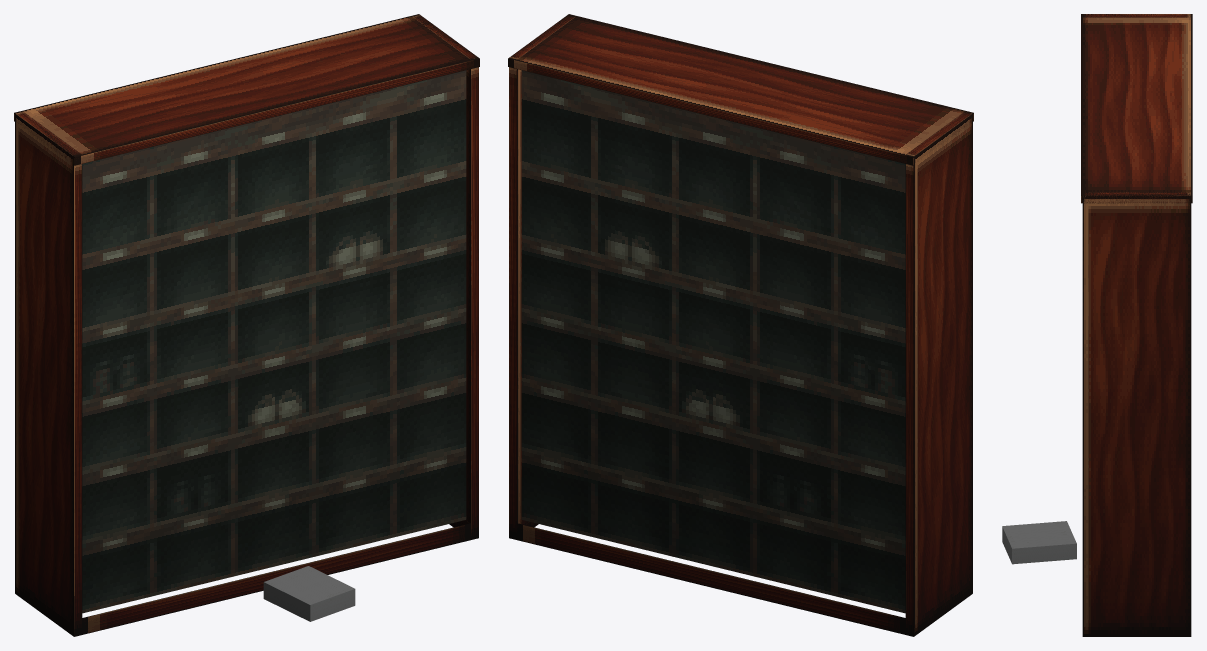
Rendered from prop_shoe_locker-3.glb.
The picture shows the model from 3 angles, left to right: view 1: azimuth 30°, elevation 25°; view 2: azimuth 150°, elevation 25°; view 3: azimuth 270°, elevation 25°; orthographic projection. The views are drawn at different scales.
Visible parts, largest first — view 1: prop_shoe_locker-3; view 2: prop_shoe_locker-3; view 3: prop_shoe_locker-3.
Part boxes in pixels (x1,y1,x2,y2): prop_shoe_locker-3: (14, 14, 479, 636); prop_shoe_locker-3: (508, 14, 973, 636); prop_shoe_locker-3: (1002, 14, 1192, 636).
Bounding box in the file's own units: 1.5 × 1.7 × 0.6655.
Materials: 3 (3 with a texture image).
